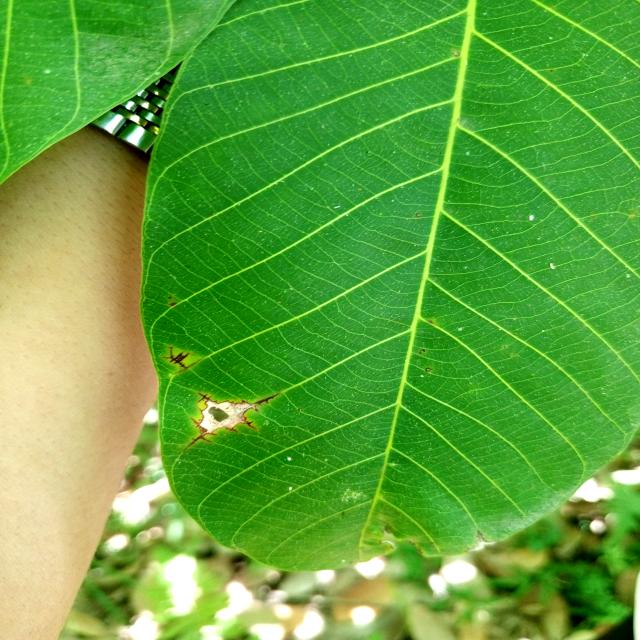Corynespora: (164, 346, 201, 374), (187, 417, 217, 451), (253, 393, 279, 405), (243, 417, 258, 431), (196, 394, 214, 404)
Leaf-Blight: (201, 401, 252, 434)
